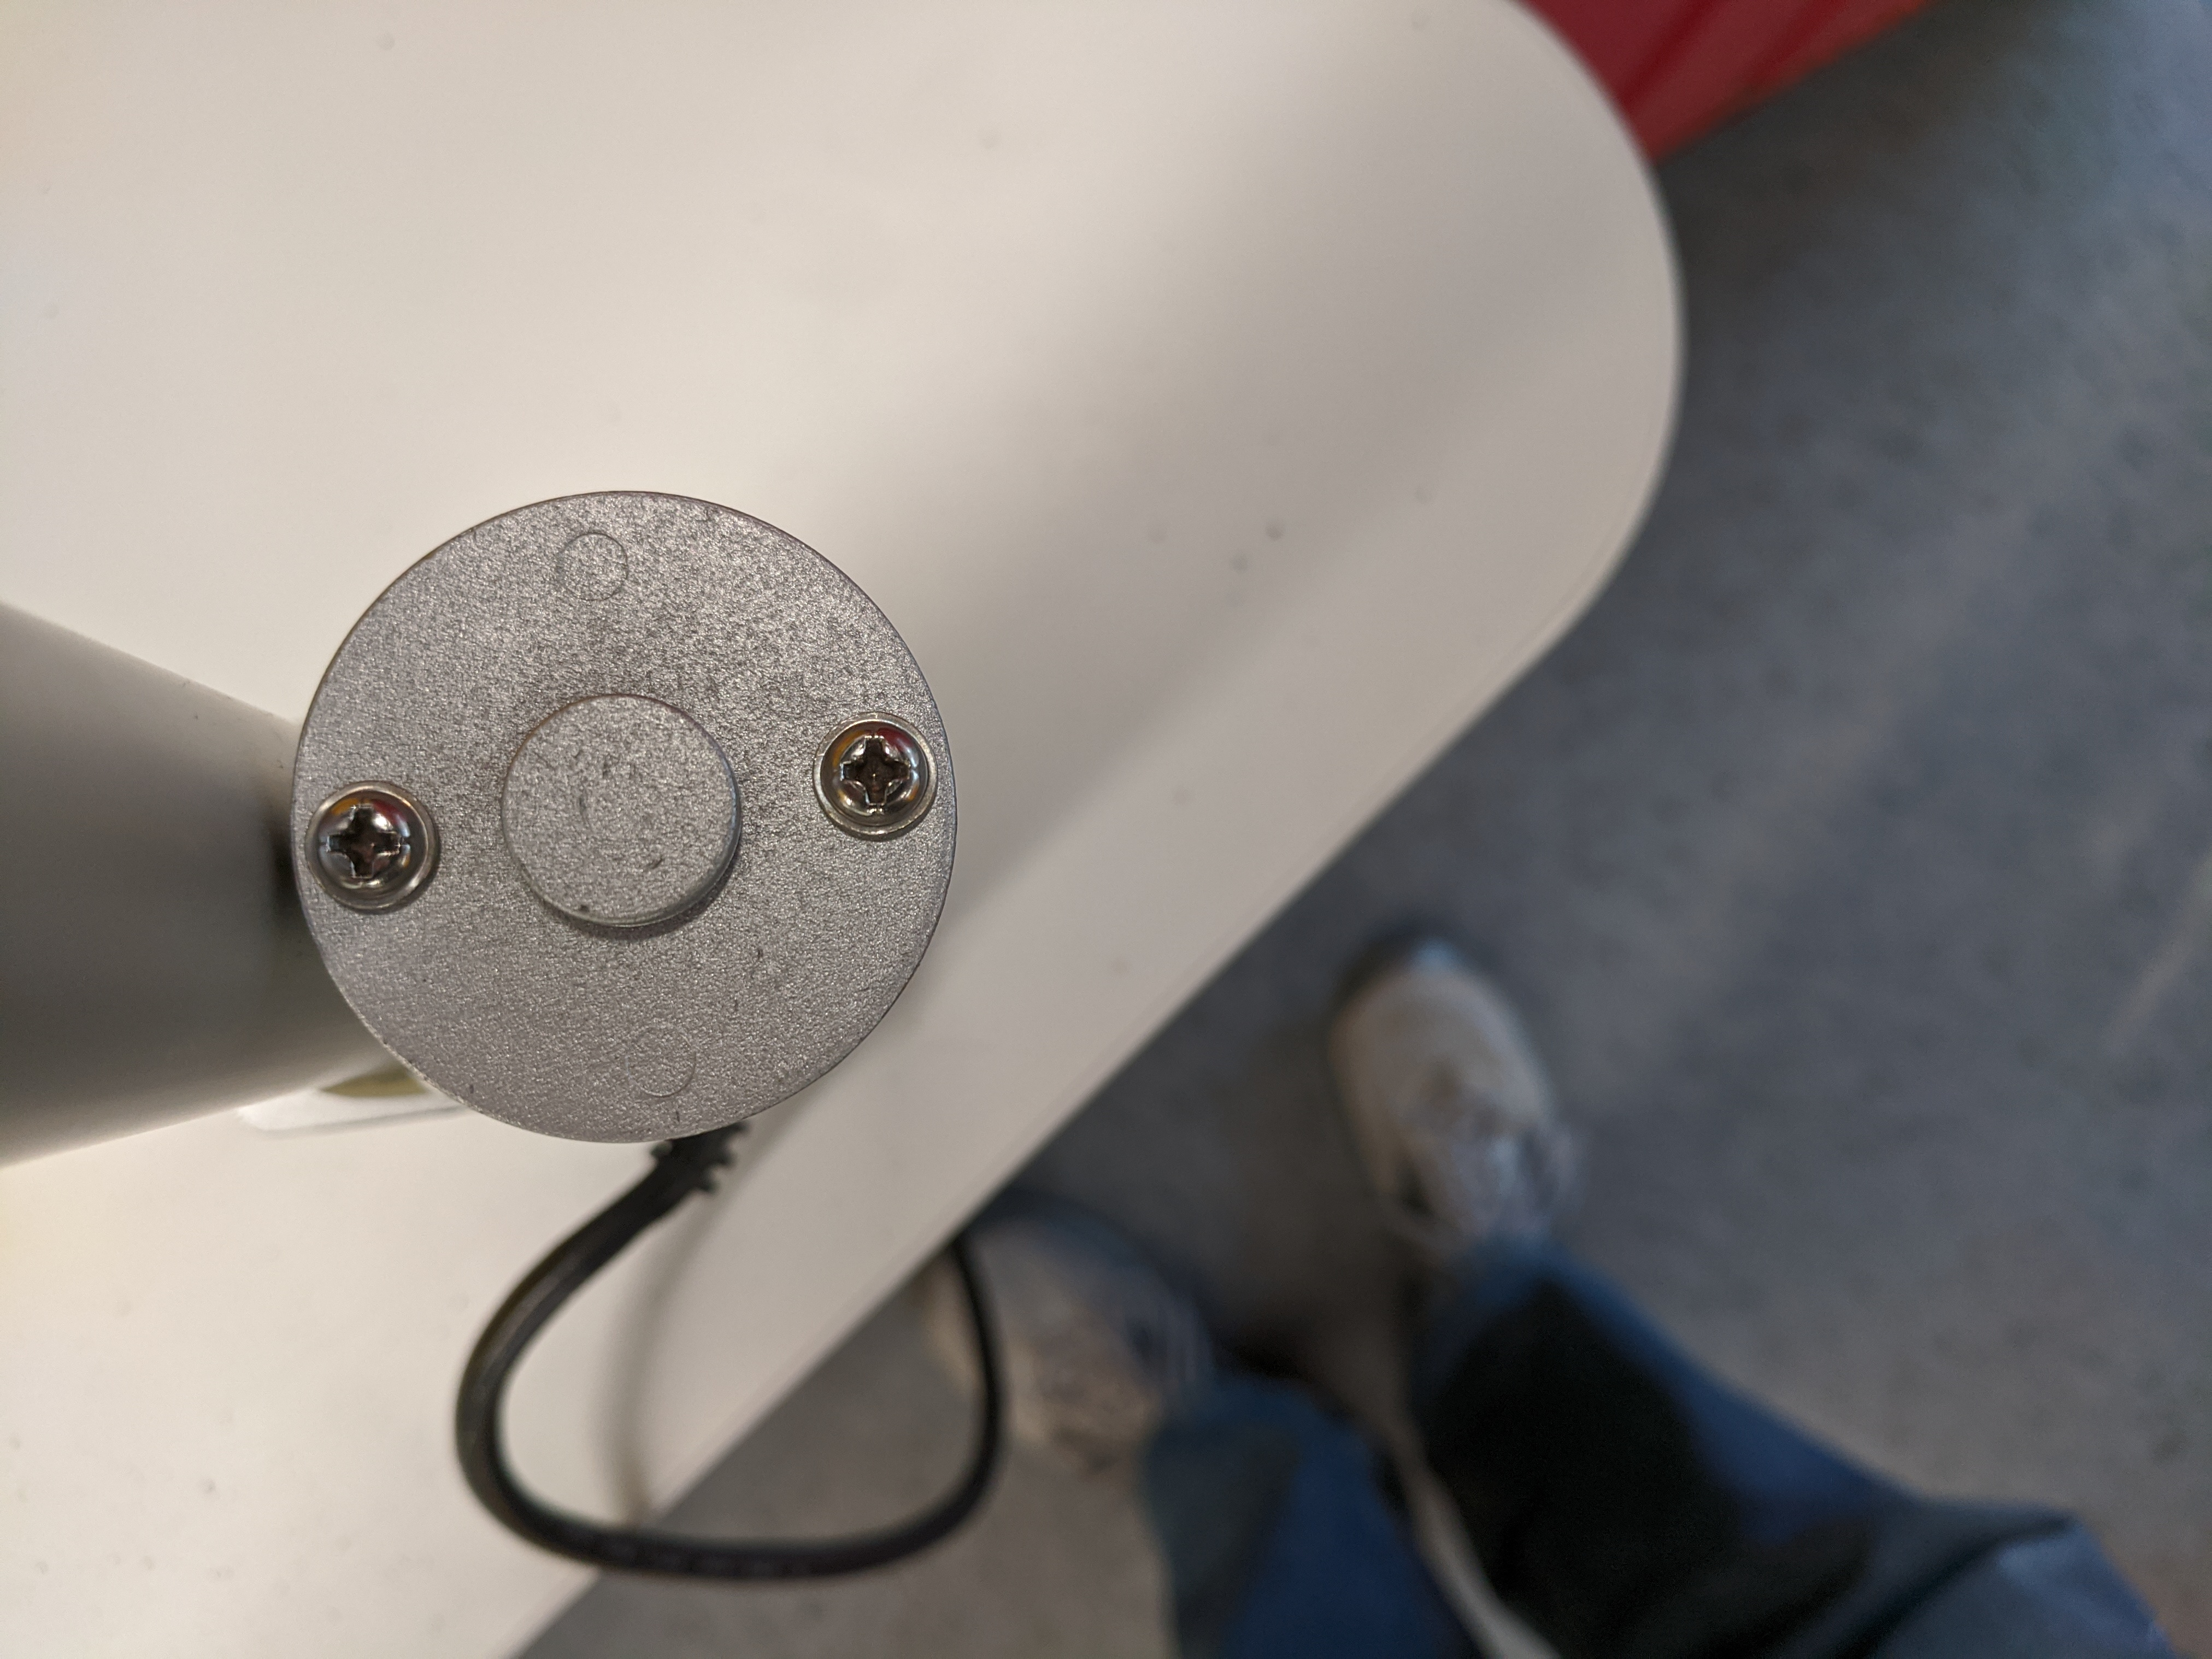cross_recessed_screw: (293, 772, 428, 908), (801, 706, 944, 835)
